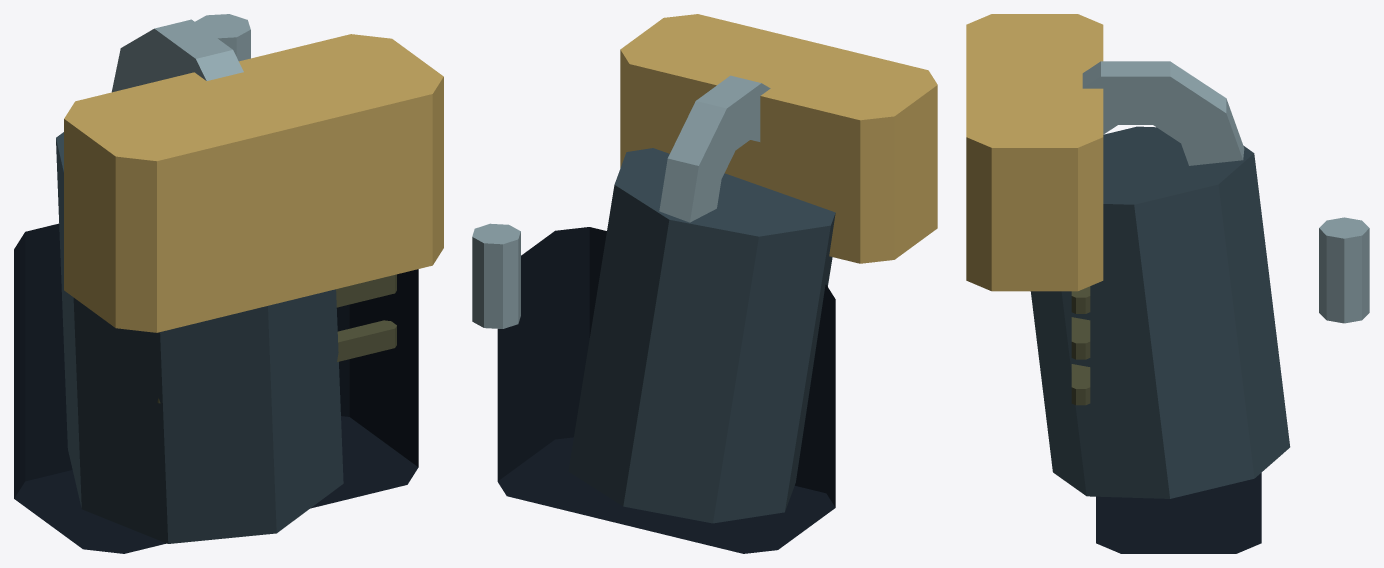
File: enemy_gunner_shin_l.obj
3 renders of one model, left to right at view 1: azimuth 30°, elevation 25°; view 2: azimuth 150°, elevation 25°; view 3: azimuth 270°, elevation 25°, orthographic. The views are drawn at different scales.
Size of the model in its own units: 0.51 by 0.6084 by 0.56.
